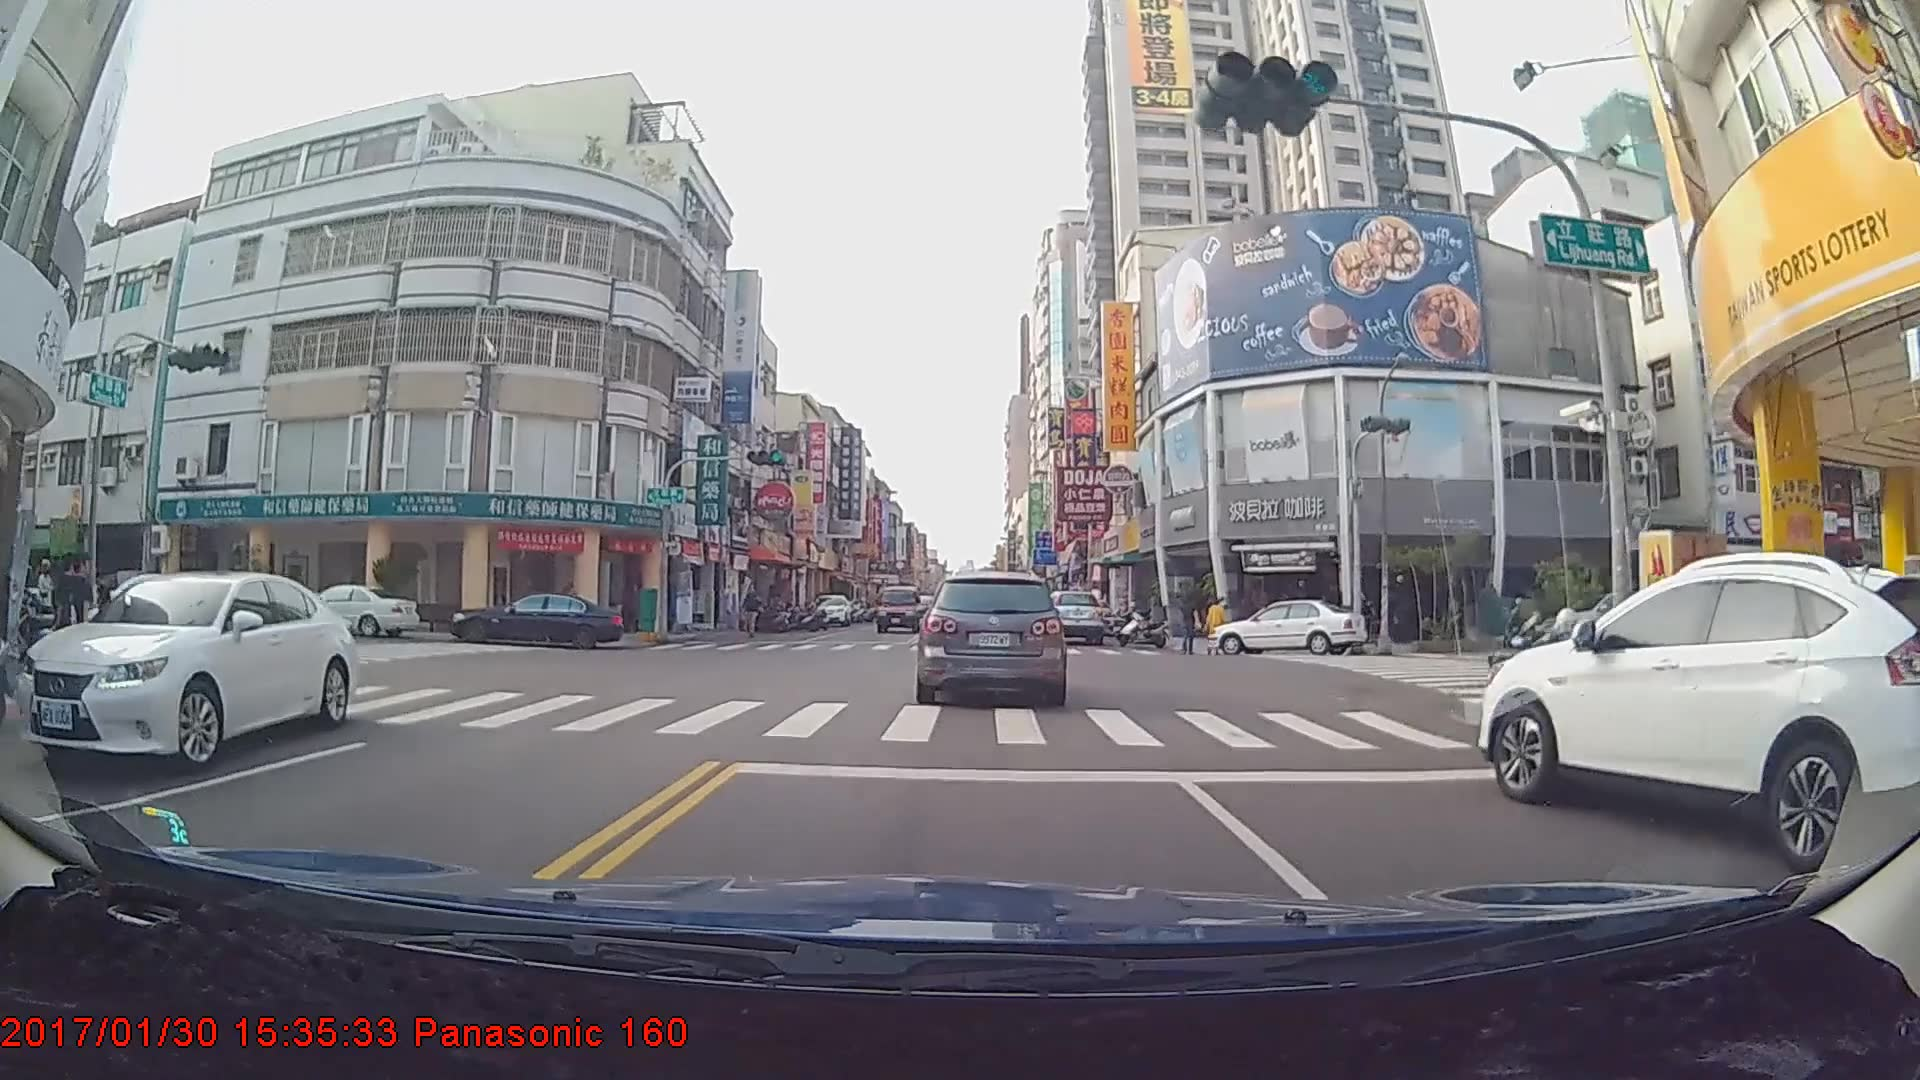pedestrian: (56, 548, 100, 700), (1179, 587, 1200, 660), (1207, 595, 1229, 650), (743, 586, 763, 639)
vehicle: (1479, 548, 1920, 875), (12, 569, 356, 772), (912, 570, 1068, 707), (446, 582, 623, 640), (1210, 596, 1365, 657), (274, 579, 420, 637), (1037, 584, 1104, 643), (875, 581, 921, 631), (807, 592, 851, 628)
